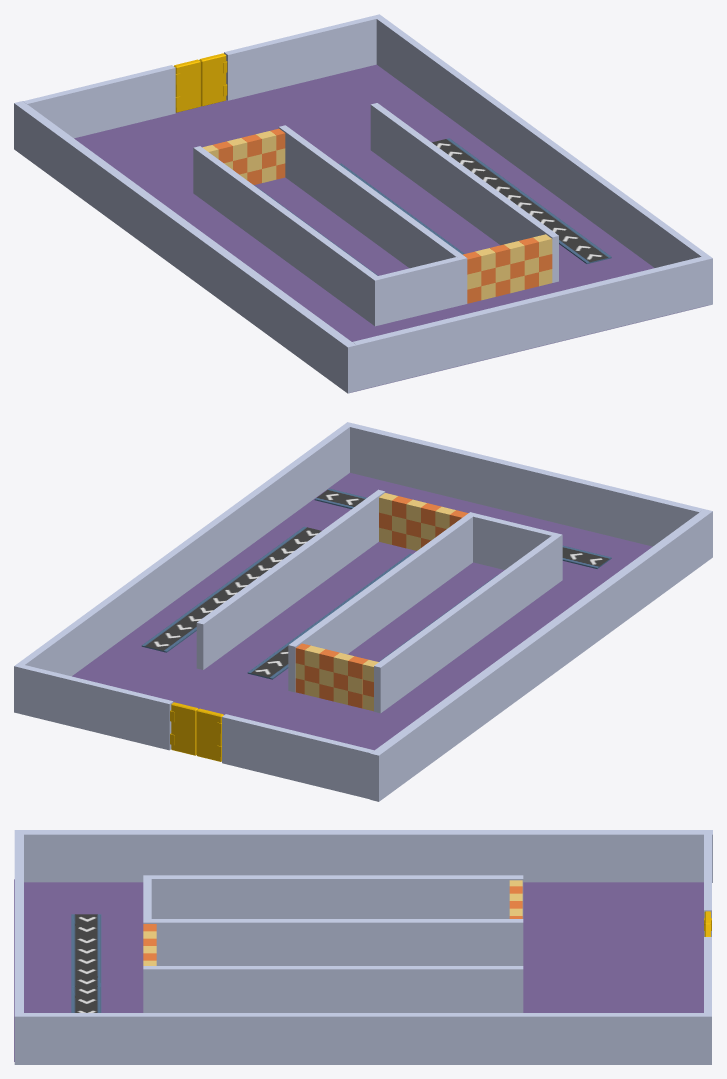
File: maps46.fbx
3 renders of one model, top to bottom at view 1: azimuth 30°, elevation 25°; view 2: azimuth 150°, elevation 25°; view 3: azimuth 270°, elevation 25°, orthographic. The views are drawn at different scales.
Visible parts, largest first — view 1: wall_01_08_geo, wall_01_07_geo, wall_01_05_geo, wall_01_06_geo1, wall_01_09_geo9, wall_01_09_geo11, wall_01_09_geo10, wall_01_09_geo7, wall_01_09_geo, wall_01_09_geo8, conveyorBelt_geo3, conveyorBelt_geo9 (+2 smaller); view 2: wall_01_08_geo, wall_01_07_geo, wall_01_05_geo, wall_01_06_geo1, wall_01_09_geo9, wall_01_09_geo11, wall_01_09_geo10, wall_01_09_geo7, wall_01_09_geo, wall_01_09_geo8, conveyorBelt_geo9, conveyorBelt_geo3 (+5 smaller); view 3: wall_01_08_geo, wall_01_06_geo1, wall_01_07_geo, wall_01_09_geo11, wall_01_09_geo10, wall_01_09_geo9, conveyorBelt_geo1, wall_01_05_geo, conveyorBelt_geo4, wall_01_09_geo, wall_01_09_geo7.
Boxes of the visible parts, x1=… form: wall_01_08_geo: x1=74, y1=64, x2=707, y2=392; wall_01_07_geo: x1=14, y1=101, x2=356, y2=393; wall_01_05_geo: x1=352, y1=257, x2=705, y2=391; wall_01_06_geo1: x1=373, y1=14, x2=712, y2=305; wall_01_09_geo9: x1=193, y1=146, x2=381, y2=326; wall_01_09_geo11: x1=370, y1=103, x2=558, y2=282; wall_01_09_geo10: x1=278, y1=125, x2=467, y2=305; wall_01_09_geo7: x1=224, y1=16, x2=376, y2=100; wall_01_09_geo: x1=23, y1=65, x2=175, y2=138; wall_01_09_geo8: x1=378, y1=257, x2=460, y2=324; conveyorBelt_geo3: x1=513, y1=197, x2=611, y2=263; conveyorBelt_geo9: x1=432, y1=138, x2=530, y2=201; wall_01_08_geo: x1=72, y1=473, x2=652, y2=750; wall_01_07_geo: x1=370, y1=509, x2=712, y2=801; wall_01_05_geo: x1=350, y1=423, x2=703, y2=546; wall_01_06_geo1: x1=14, y1=422, x2=353, y2=713; wall_01_09_geo9: x1=374, y1=533, x2=562, y2=713; wall_01_09_geo11: x1=196, y1=489, x2=385, y2=669; wall_01_09_geo10: x1=288, y1=512, x2=476, y2=692; wall_01_09_geo7: x1=20, y1=665, x2=173, y2=750; wall_01_09_geo: x1=222, y1=714, x2=373, y2=799; wall_01_09_geo8: x1=473, y1=514, x2=554, y2=569; conveyorBelt_geo9: x1=141, y1=586, x2=240, y2=652; conveyorBelt_geo3: x1=223, y1=526, x2=321, y2=589; wall_01_08_geo: x1=14, y1=879, x2=703, y2=1061; wall_01_06_geo1: x1=14, y1=1013, x2=711, y2=1064; wall_01_07_geo: x1=14, y1=830, x2=712, y2=882; wall_01_09_geo11: x1=143, y1=966, x2=523, y2=1012; wall_01_09_geo10: x1=143, y1=919, x2=523, y2=965; wall_01_09_geo9: x1=143, y1=875, x2=523, y2=918; conveyorBelt_geo1: x1=71, y1=914, x2=101, y2=986; wall_01_05_geo: x1=14, y1=834, x2=23, y2=1012; conveyorBelt_geo4: x1=71, y1=986, x2=101, y2=1012; wall_01_09_geo: x1=704, y1=834, x2=711, y2=936; wall_01_09_geo7: x1=704, y1=937, x2=711, y2=1012.
Bounding box in the file's own units: 73.34 × 8.96 × 116.
Materials: 4 (4 with a texture image).
